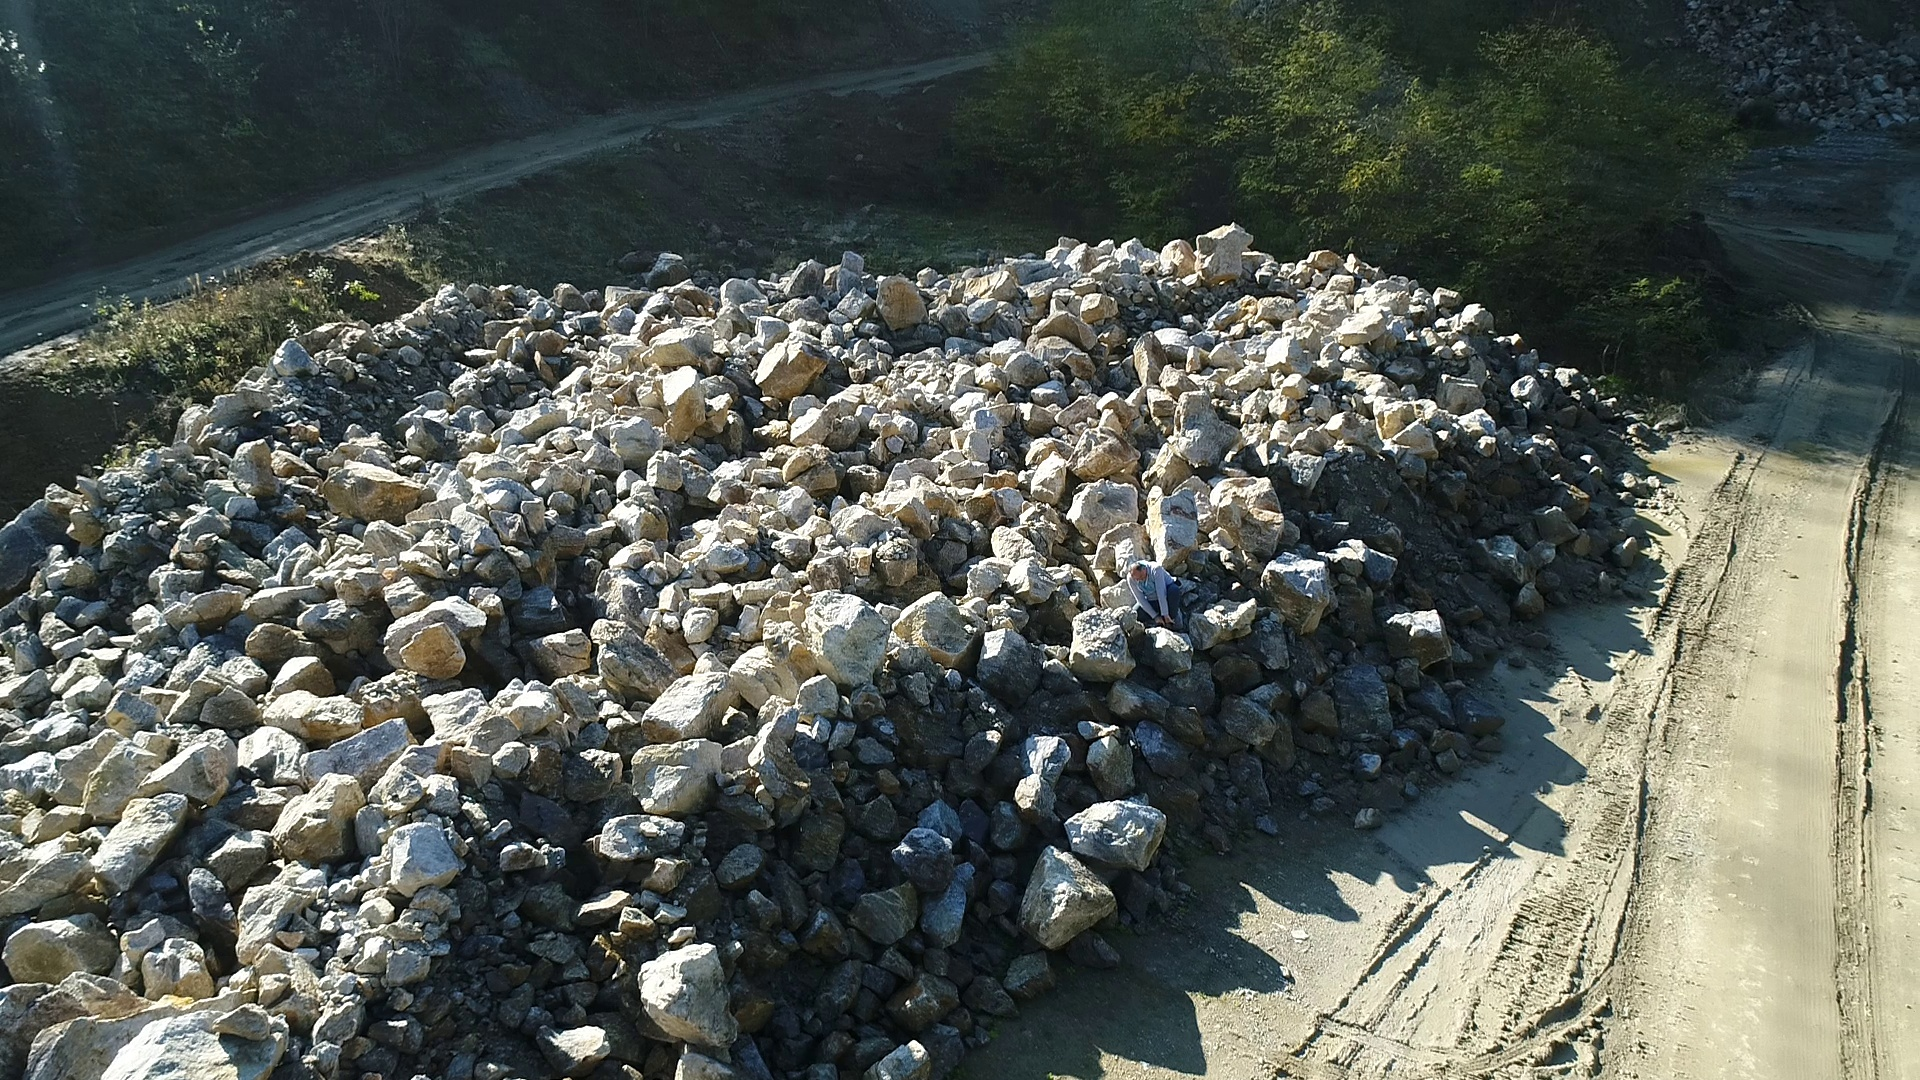person: (1123, 560, 1185, 629)
